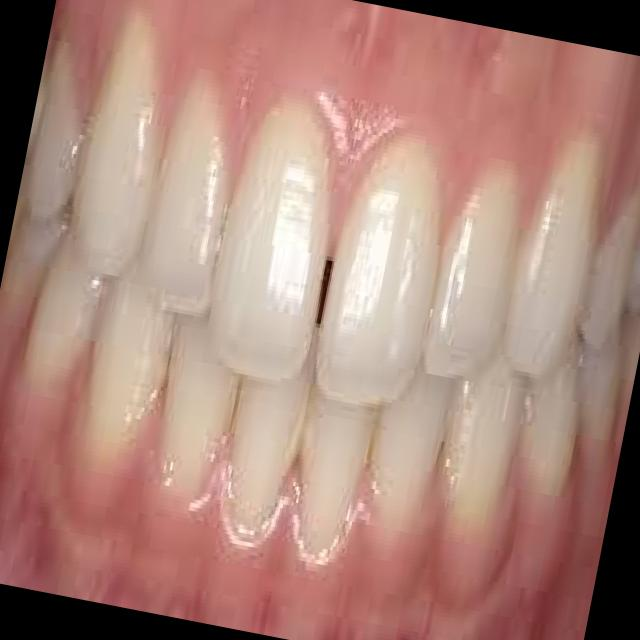Tooth: (211, 108, 327, 379), (321, 144, 439, 409), (72, 13, 166, 274), (506, 136, 603, 386), (424, 162, 524, 382), (142, 79, 227, 315), (225, 326, 320, 534), (84, 252, 176, 460), (442, 344, 528, 542), (295, 357, 377, 556), (372, 353, 451, 546), (162, 295, 240, 490), (23, 230, 111, 378), (519, 334, 584, 497), (26, 43, 85, 220), (576, 193, 640, 353), (577, 317, 624, 444)
